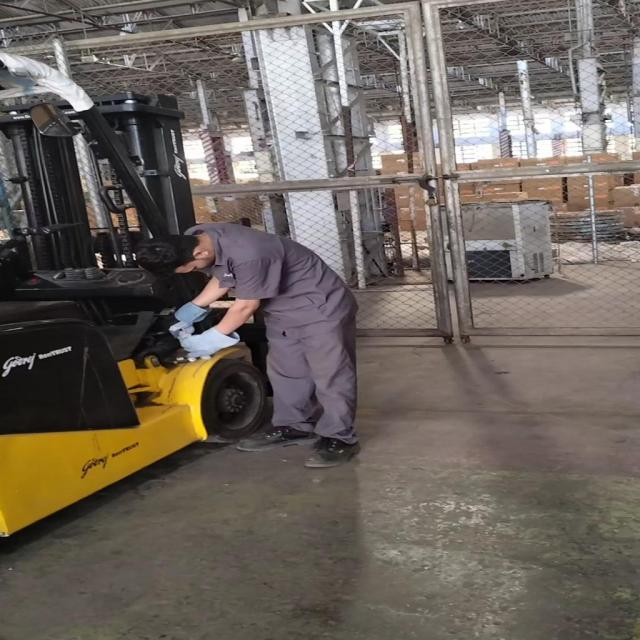Gloves-Detection: (161, 299, 227, 370)
